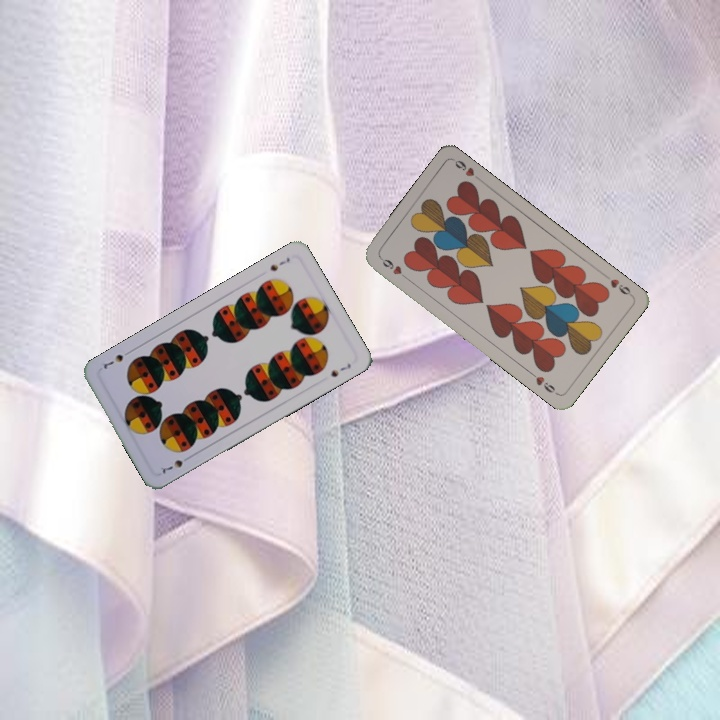H9: (600, 270, 635, 299), (376, 253, 411, 282)
S7: (158, 452, 194, 476), (266, 253, 293, 274)
